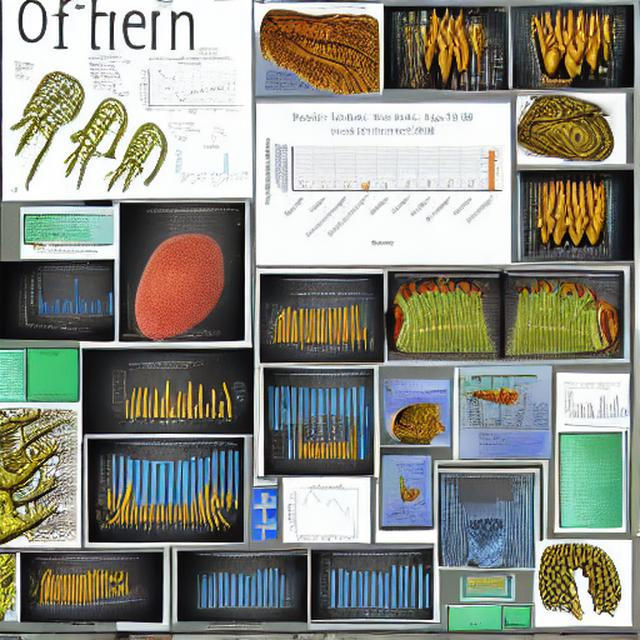Graph: (256, 105, 509, 255), (316, 550, 433, 620), (109, 361, 212, 434), (135, 55, 242, 118), (286, 482, 366, 542), (30, 267, 114, 322), (173, 143, 251, 191), (563, 385, 627, 423)
